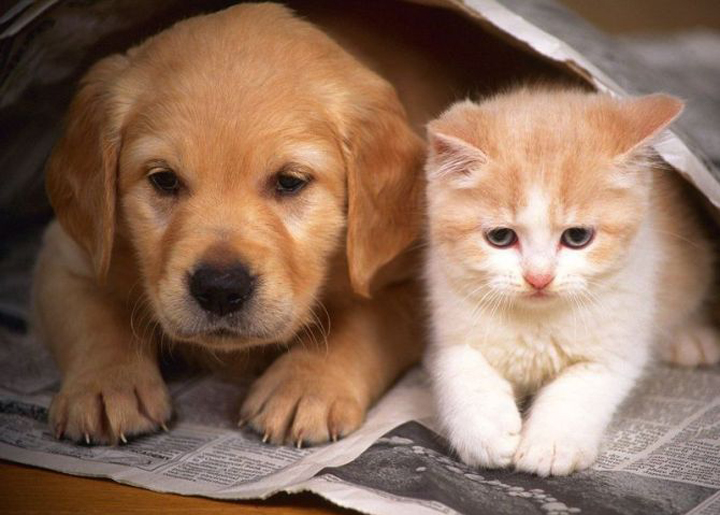cat: (428, 15, 697, 492)
dog: (35, 4, 435, 450)
